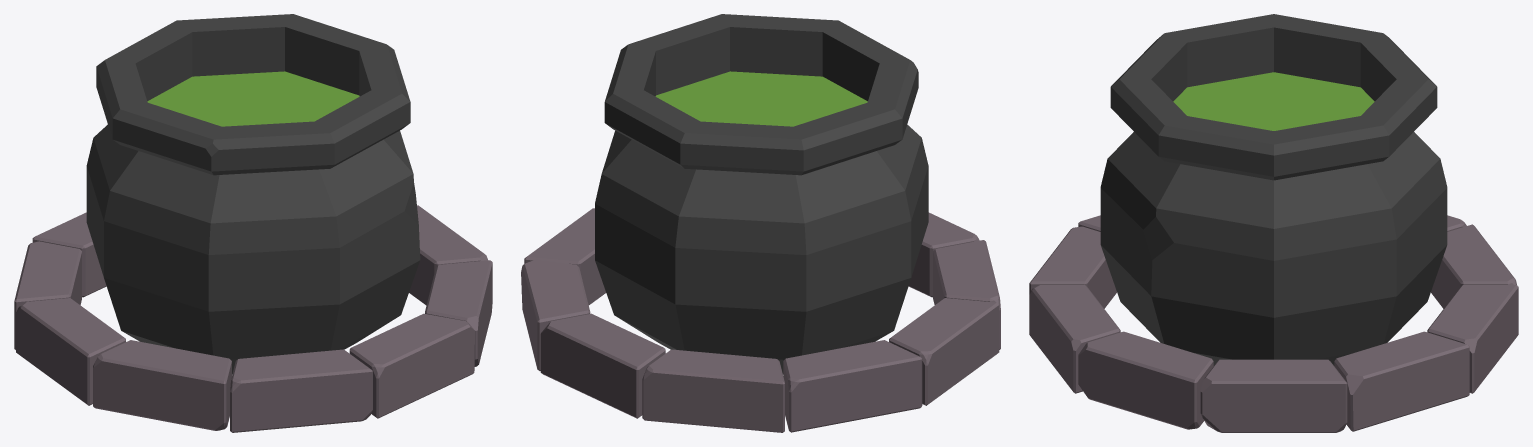
Rendered from cauldron.fbx.
3 views of the same model, side by side, from view 1: azimuth 30°, elevation 25°; view 2: azimuth 150°, elevation 25°; view 3: azimuth 270°, elevation 25° (orthographic).
Visible parts, largest first — view 1: Circle, Circle.001; view 2: Circle, Circle.001; view 3: Circle, Circle.001.
Boxes of the visible parts, x1=… form: Circle: x1=86, y1=14, x2=420, y2=374; Circle.001: x1=14, y1=205, x2=492, y2=432; Circle: x1=595, y1=14, x2=928, y2=374; Circle.001: x1=521, y1=208, x2=1000, y2=432; Circle: x1=1100, y1=14, x2=1447, y2=365; Circle.001: x1=1029, y1=215, x2=1518, y2=432.
Bounding box in the file's own units: 233 × 140 × 244.
